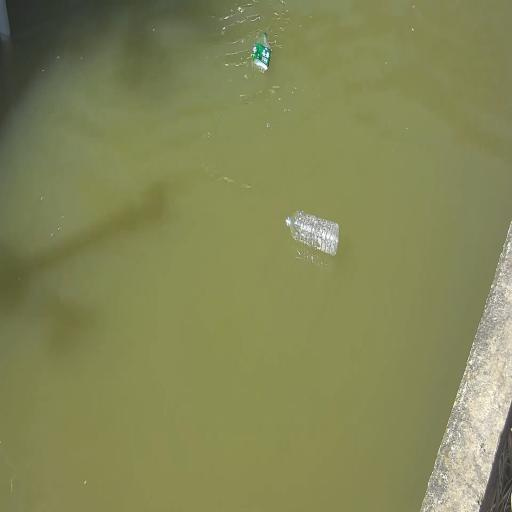plastic: (285, 209, 340, 257), (251, 28, 273, 76)
